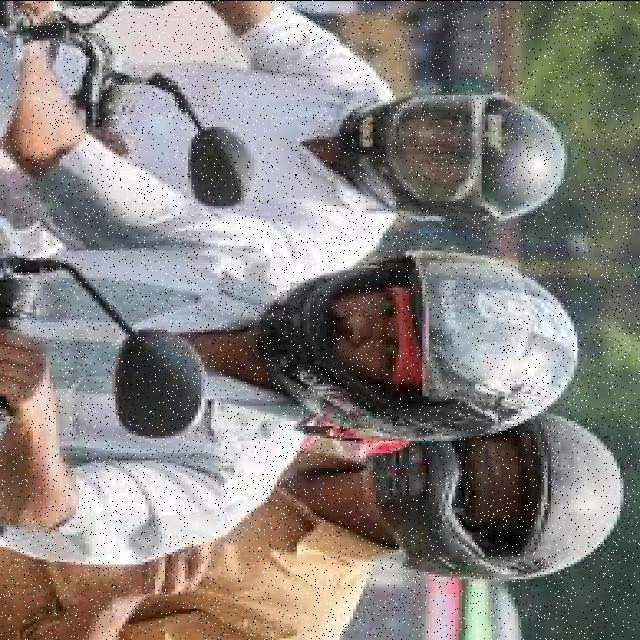Helmet: (262, 251, 577, 439), (375, 413, 620, 575), (332, 94, 567, 220)
